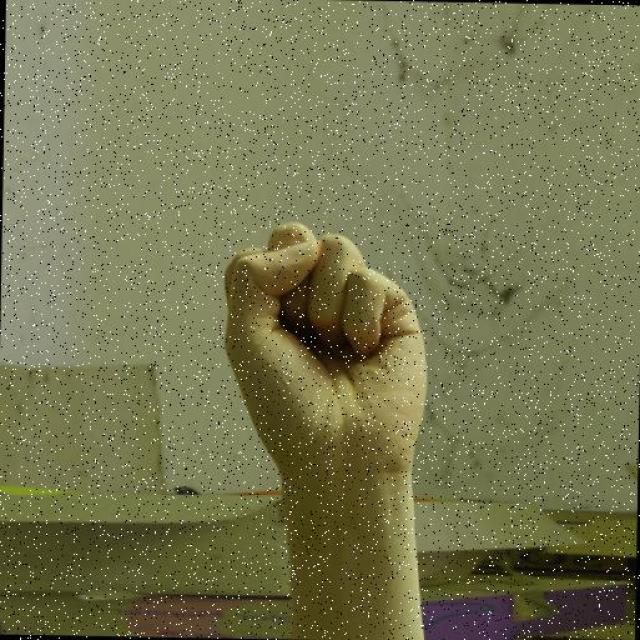S: (213, 216, 433, 473)
